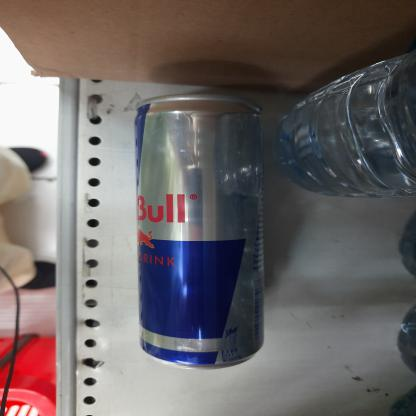bottle: (128, 88, 272, 366)
